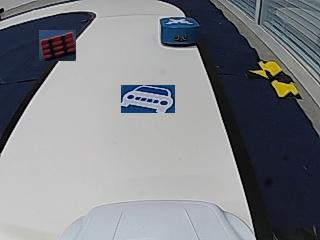prop: (161, 17, 200, 47)
